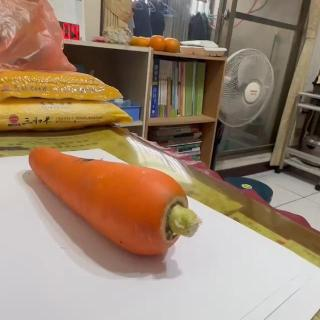carrot: (26, 146, 202, 260)
